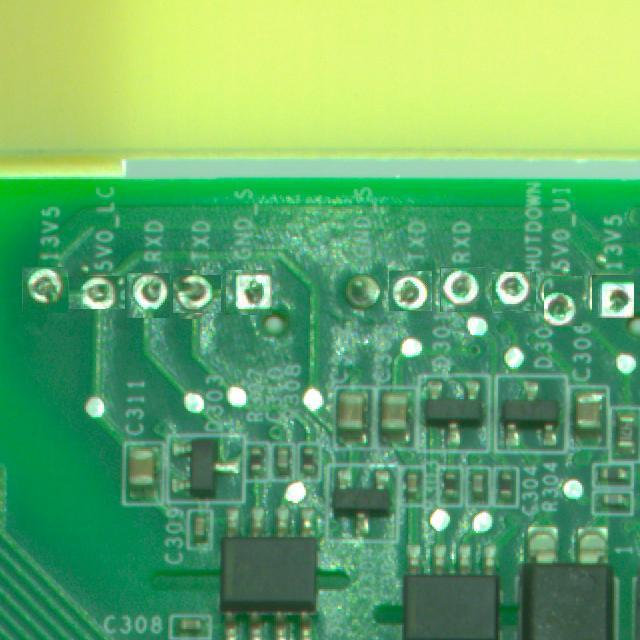lack_of_part: (22, 267, 68, 313), (226, 270, 272, 315), (74, 270, 119, 315), (440, 267, 485, 312), (127, 273, 170, 318), (544, 276, 582, 326), (175, 273, 219, 316), (592, 275, 634, 318), (388, 270, 432, 311), (493, 270, 535, 312)
